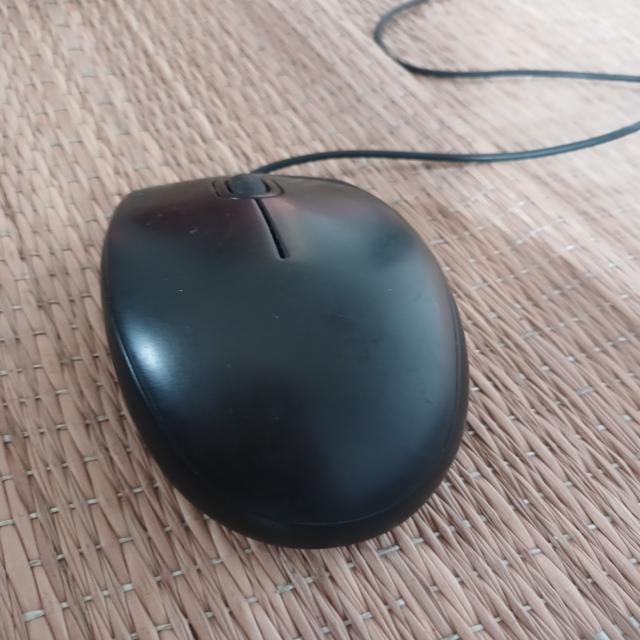mouse: (88, 168, 483, 552)
